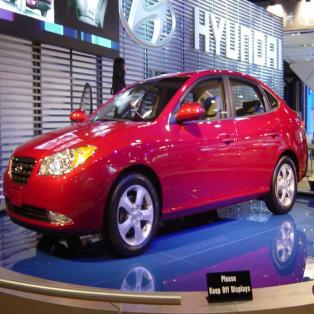Auto: (4, 68, 308, 260)
